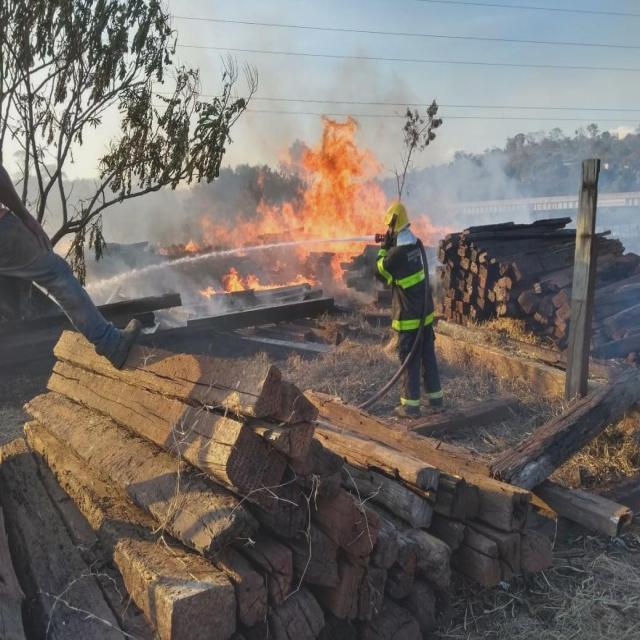Fire: (208, 122, 439, 248), (203, 273, 314, 293)
